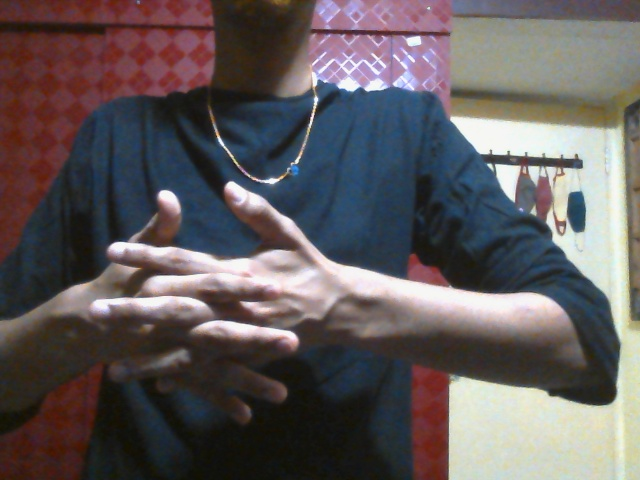W: (84, 182, 327, 427)
